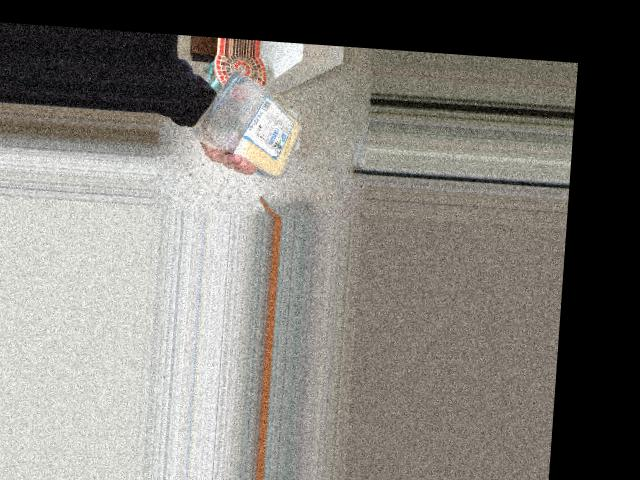cheese: (202, 67, 315, 168)
